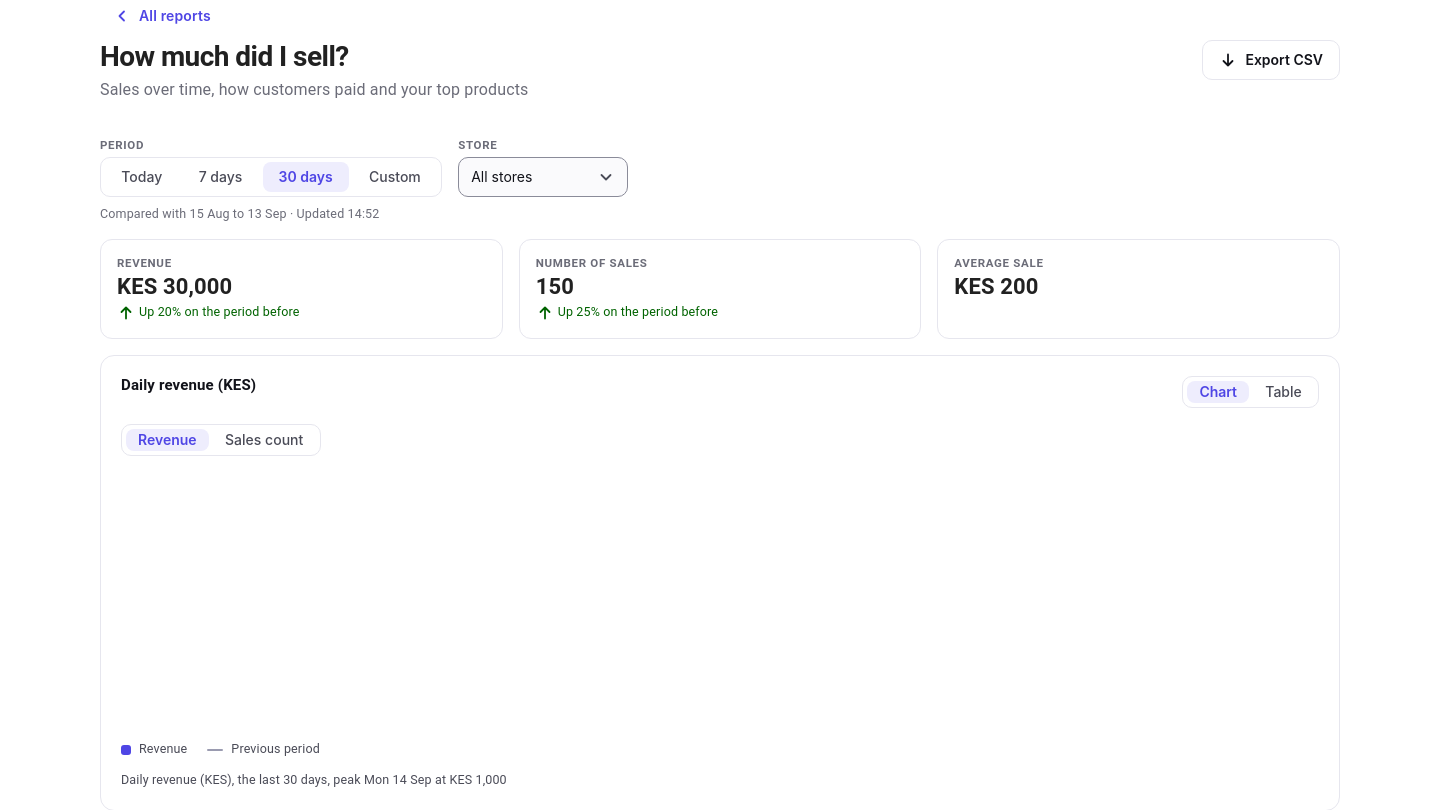
Test: export › Export CSV in the header saves the rows of the table with the same numbers
The image size is (1440, 810).
Expected: the text "KES 30,000" is shown, [117, 274, 232, 299]
What coordinates should you click on to do the following:
click the button "Export CSV"
I would click on:
 (1271, 60)
Its box is [1202, 40, 1340, 80].
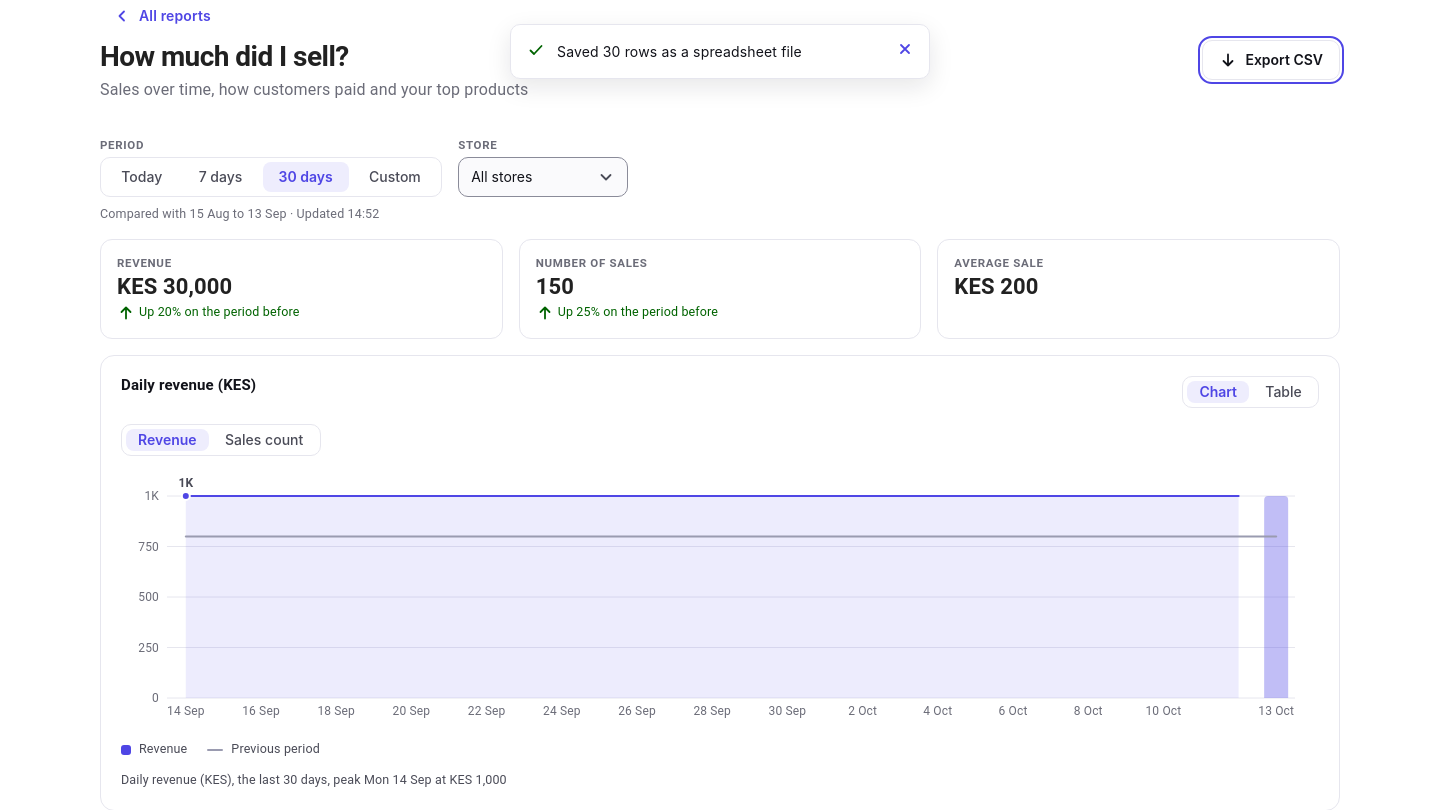
Now the text "Saved 30 rows as a spreadsheet file" is shown, box [557, 43, 802, 60]
